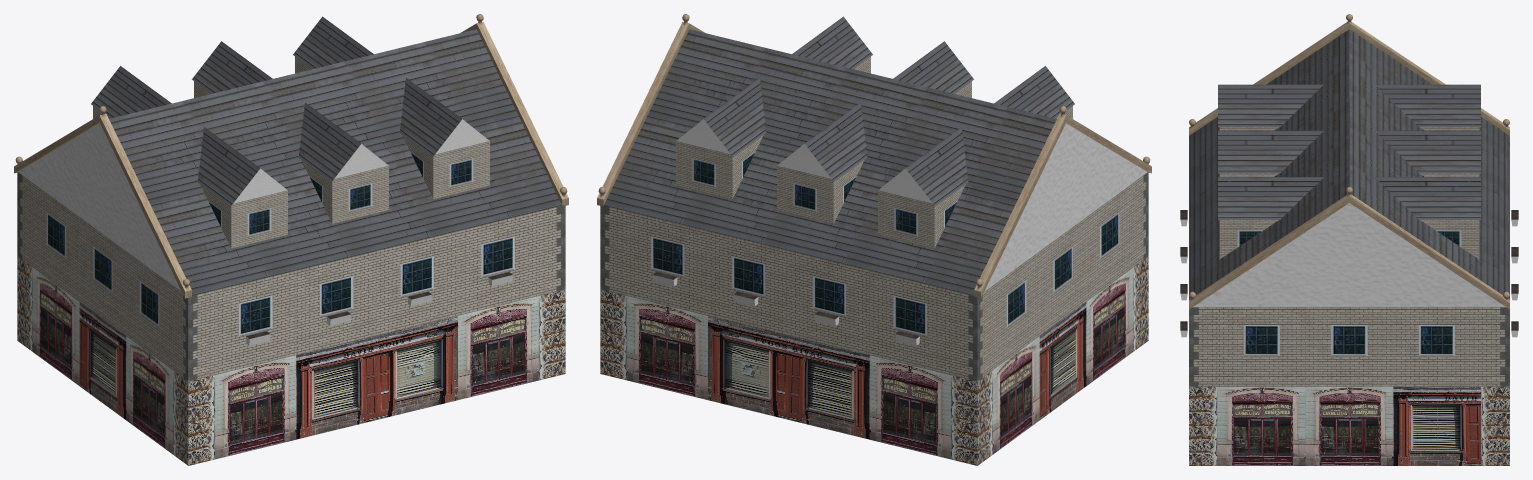
Rendered from House_006.dae.
3 renders of one model, left to right at view 1: azimuth 30°, elevation 25°; view 2: azimuth 150°, elevation 25°; view 3: azimuth 270°, elevation 25°, orthographic. The views are drawn at different scales.
Parts seen in each view (by area): view 1: House_006; view 2: House_006; view 3: House_006.
Boxes of the visible parts, bbox=[...] form: House_006: bbox=[14, 14, 568, 465]; House_006: bbox=[597, 14, 1151, 465]; House_006: bbox=[1180, 14, 1518, 465].
Size of the model in its own units: 114 by 92.6 by 84.3.
